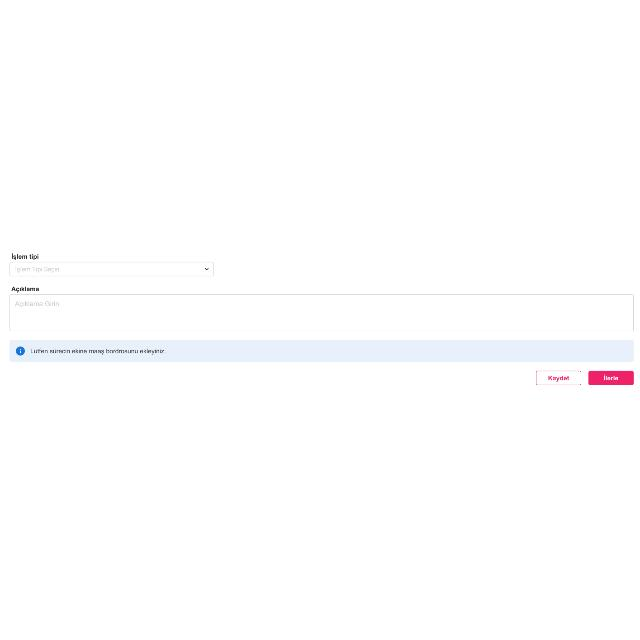QLabel: (30, 348, 166, 356), (11, 252, 39, 260), (11, 286, 39, 294), (547, 376, 569, 382), (604, 376, 618, 382)
VAlert: (10, 341, 634, 363)
VBtn: (536, 371, 582, 387), (588, 371, 634, 387)
VCombobox: (10, 262, 214, 276)
VIcon: (16, 346, 24, 356)
VTextarea: (10, 294, 634, 332)
